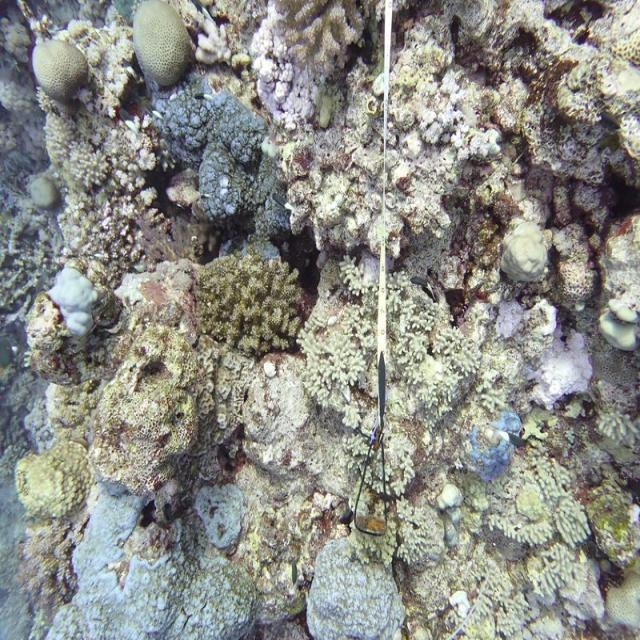Bleached Coral: (247, 0, 337, 143), (46, 248, 110, 332)
